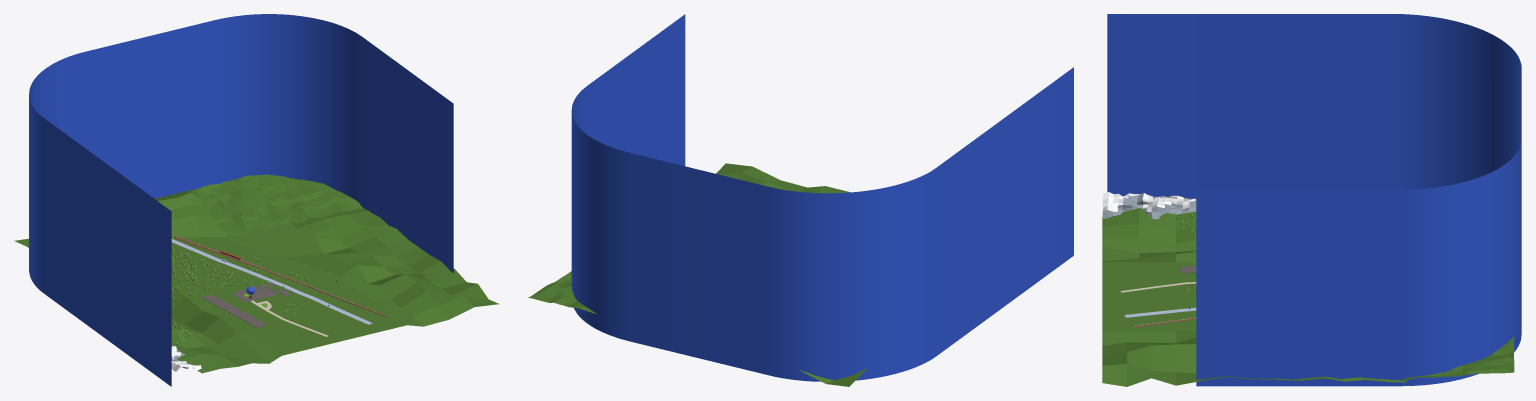
The model's file is landschaft.glb.
3 views of the same model, side by side, from view 1: azimuth 30°, elevation 25°; view 2: azimuth 150°, elevation 25°; view 3: azimuth 270°, elevation 25° (orthographic). The views are drawn at different scales.
Parts seen in each view (by area): view 1: himmel, Plane.010, Baum1.007, Hauptstrasse.001, Bahndamm.002, Landebahn.001, Plane.012; view 2: himmel, Plane.010; view 3: himmel, Plane.010, Plane.009.
Boxes of the visible parts, x1,y1,x2,y2 form: himmel: (29, 14, 453, 386); Plane.010: (14, 174, 499, 373); Baum1.007: (171, 247, 338, 345); Hauptstrasse.001: (171, 239, 372, 324); Bahndamm.002: (173, 236, 387, 316); Landebahn.001: (202, 294, 267, 327); Plane.012: (232, 283, 295, 302); himmel: (571, 14, 1073, 381); Plane.010: (528, 163, 866, 386); himmel: (1107, 14, 1521, 386); Plane.010: (1102, 208, 1514, 386); Plane.009: (1102, 192, 1196, 219).
Size of the model in its own units: 752 by 398 by 748.
